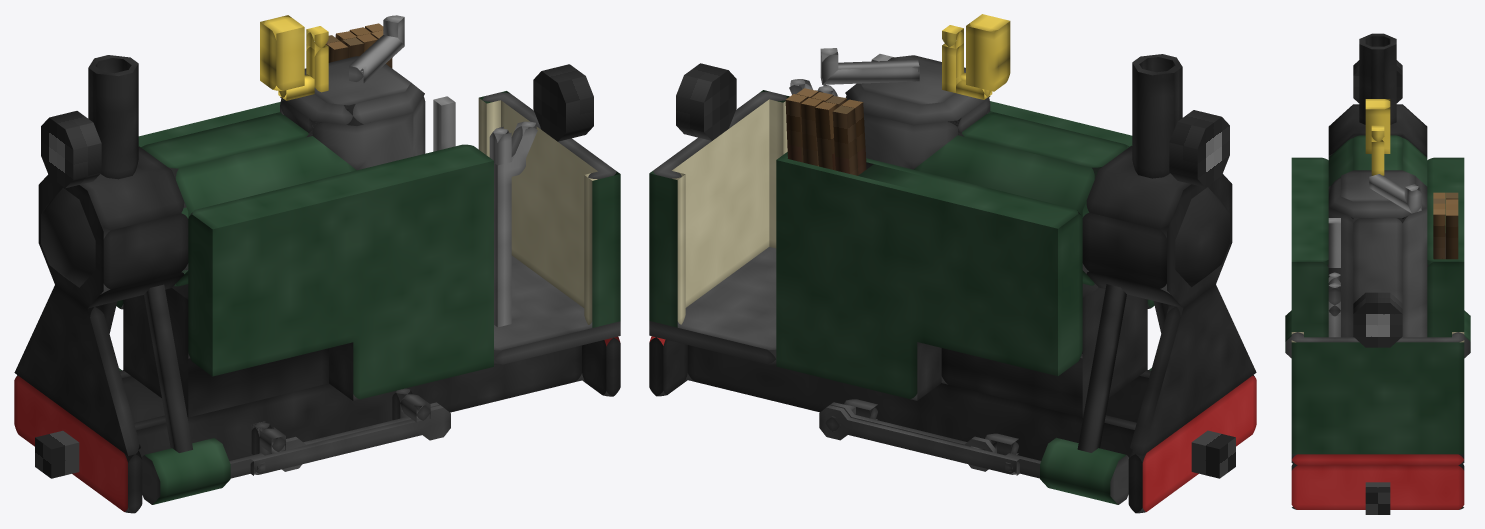
File: kitsune_zls4.obj
3 renders of one model, left to right at view 1: azimuth 30°, elevation 25°; view 2: azimuth 150°, elevation 25°; view 3: azimuth 270°, elevation 25°, orthographic. The views are drawn at different scales.
Parts seen in each view (by area): view 1: FRAME_Cube.015, REVERSER_1_LABEL_Reverser_Cube.045, STEAM_CHEST_Cube.018, MAIN_ROD_LEFT_Cube.013, WIDGET_5_CG_headfront_TOGGLE_LABEL_Front^Headlight_Cube.040, WIDGET_6_CG_headrear_TOGGLE_LABEL_Rear^Headlight_Cube.002, WHISTLE_Cube.017, THROTTLE_1_LABEL_Regulator_Cube.041, FRAME.couple.001_Cube.001, CARGO_FILL_1_Cube.056, WHISTLE_CONTROL_1_PRESS_Cube.019, TRAIN_BRAKE_1_LABEL_Vacuum^Brake_Cube.020 (+3 smaller); view 2: FRAME_Cube.015, CARGO_FILL_1_Cube.056, STEAM_CHEST_Cube.018, MAIN_ROD_RIGHT_Cube.008, WIDGET_5_CG_headfront_TOGGLE_LABEL_Front^Headlight_Cube.040, WIDGET_6_CG_headrear_TOGGLE_LABEL_Rear^Headlight_Cube.002, WHISTLE_Cube.017, THROTTLE_1_LABEL_Regulator_Cube.041, FRAME.couple.001_Cube.001, WHISTLE_CONTROL_1_PRESS_Cube.019, SIDE_ROD_RIGHT_Cube.003; view 3: FRAME_Cube.015, WIDGET_6_CG_headrear_TOGGLE_LABEL_Rear^Headlight_Cube.002, CARGO_FILL_1_Cube.056, THROTTLE_1_LABEL_Regulator_Cube.041, WHISTLE_Cube.017, FRAME.couple_Cube.004, REVERSER_1_LABEL_Reverser_Cube.045, WHISTLE_CONTROL_1_PRESS_Cube.019, TRAIN_BRAKE_1_LABEL_Vacuum^Brake_Cube.020, STEAM_CHEST_Cube.018, WIDGET_5_CG_headfront_TOGGLE_LABEL_Front^Headlight_Cube.040.
Boxes of the visible parts, bbox=[...] form: FRAME_Cube.015: bbox=[14, 55, 620, 513]; REVERSER_1_LABEL_Reverser_Cube.045: bbox=[489, 121, 537, 327]; STEAM_CHEST_Cube.018: bbox=[119, 368, 230, 504]; MAIN_ROD_LEFT_Cube.013: bbox=[250, 405, 450, 475]; WIDGET_5_CG_headfront_TOGGLE_LABEL_Front^Headlight_Cube.040: bbox=[41, 111, 101, 188]; WIDGET_6_CG_headrear_TOGGLE_LABEL_Rear^Headlight_Cube.002: bbox=[533, 64, 593, 141]; WHISTLE_Cube.017: bbox=[260, 15, 304, 90]; THROTTLE_1_LABEL_Regulator_Cube.041: bbox=[349, 15, 404, 82]; FRAME.couple.001_Cube.001: bbox=[35, 430, 79, 478]; CARGO_FILL_1_Cube.056: bbox=[326, 23, 392, 68]; WHISTLE_CONTROL_1_PRESS_Cube.019: bbox=[306, 26, 328, 92]; TRAIN_BRAKE_1_LABEL_Vacuum^Brake_Cube.020: bbox=[433, 96, 455, 151]; FRAME_Cube.015: bbox=[649, 54, 1256, 513]; CARGO_FILL_1_Cube.056: bbox=[785, 88, 866, 175]; STEAM_CHEST_Cube.018: bbox=[1040, 368, 1151, 504]; MAIN_ROD_RIGHT_Cube.008: bbox=[819, 405, 1019, 475]; WIDGET_5_CG_headfront_TOGGLE_LABEL_Front^Headlight_Cube.040: bbox=[1169, 110, 1229, 187]; WIDGET_6_CG_headrear_TOGGLE_LABEL_Rear^Headlight_Cube.002: bbox=[676, 63, 736, 140]; WHISTLE_Cube.017: bbox=[966, 14, 1010, 91]; THROTTLE_1_LABEL_Regulator_Cube.041: bbox=[820, 48, 919, 84]; FRAME.couple.001_Cube.001: bbox=[1191, 430, 1235, 478]; WHISTLE_CONTROL_1_PRESS_Cube.019: bbox=[942, 25, 963, 92]; SIDE_ROD_RIGHT_Cube.003: bbox=[830, 402, 995, 471]; FRAME_Cube.015: bbox=[1291, 33, 1464, 509]; WIDGET_6_CG_headrear_TOGGLE_LABEL_Rear^Headlight_Cube.002: bbox=[1353, 292, 1402, 347]; CARGO_FILL_1_Cube.056: bbox=[1433, 192, 1458, 259]; THROTTLE_1_LABEL_Regulator_Cube.041: bbox=[1369, 174, 1421, 213]; WHISTLE_Cube.017: bbox=[1365, 99, 1390, 153]; FRAME.couple_Cube.004: bbox=[1365, 482, 1390, 514]; REVERSER_1_LABEL_Reverser_Cube.045: bbox=[1328, 272, 1340, 337]; WHISTLE_CONTROL_1_PRESS_Cube.019: bbox=[1371, 125, 1384, 175]; TRAIN_BRAKE_1_LABEL_Vacuum^Brake_Cube.020: bbox=[1328, 218, 1340, 267]; STEAM_CHEST_Cube.018: bbox=[1285, 310, 1470, 358]; WIDGET_5_CG_headfront_TOGGLE_LABEL_Front^Headlight_Cube.040: bbox=[1353, 60, 1402, 102].
Size of the model in its own units: 2.44 by 1.94 by 0.9375.
Materials: 5 (5 with a texture image).
